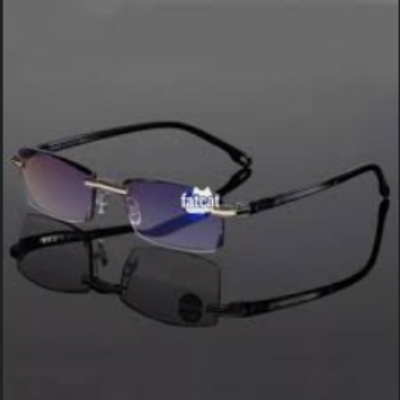glasses: (10, 116, 392, 270)
